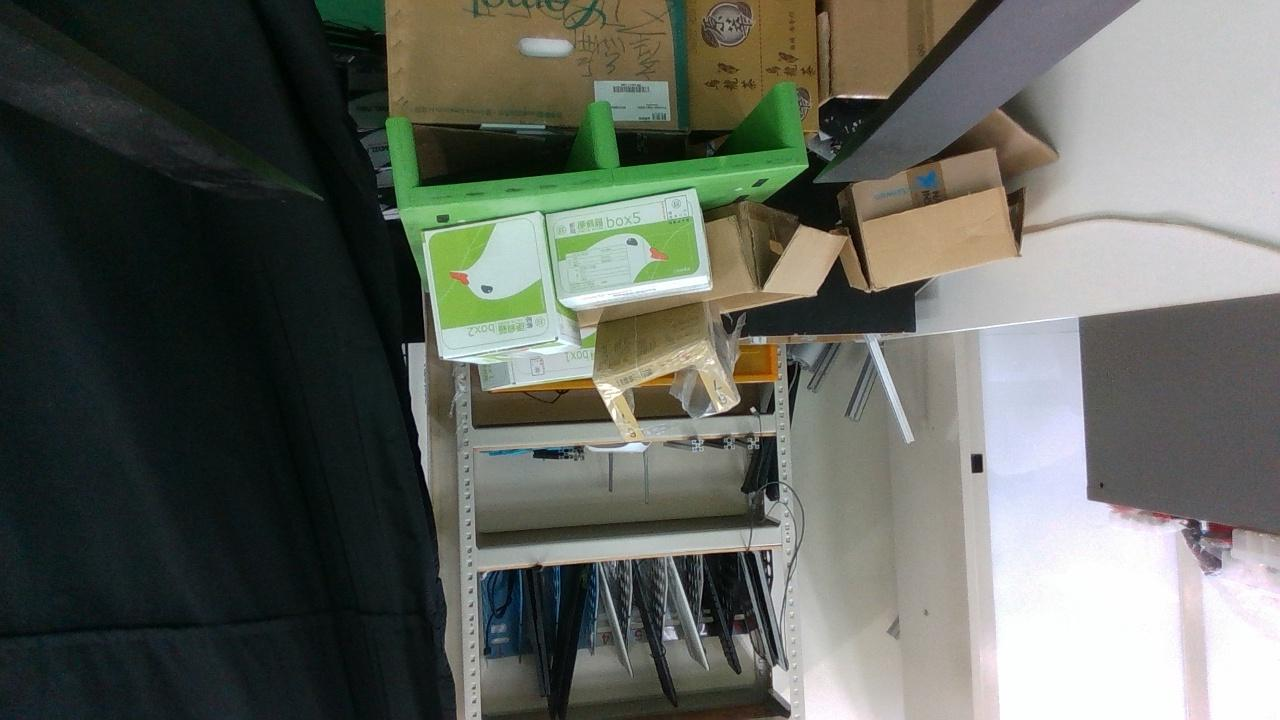Pallet: (385, 84, 808, 211)
